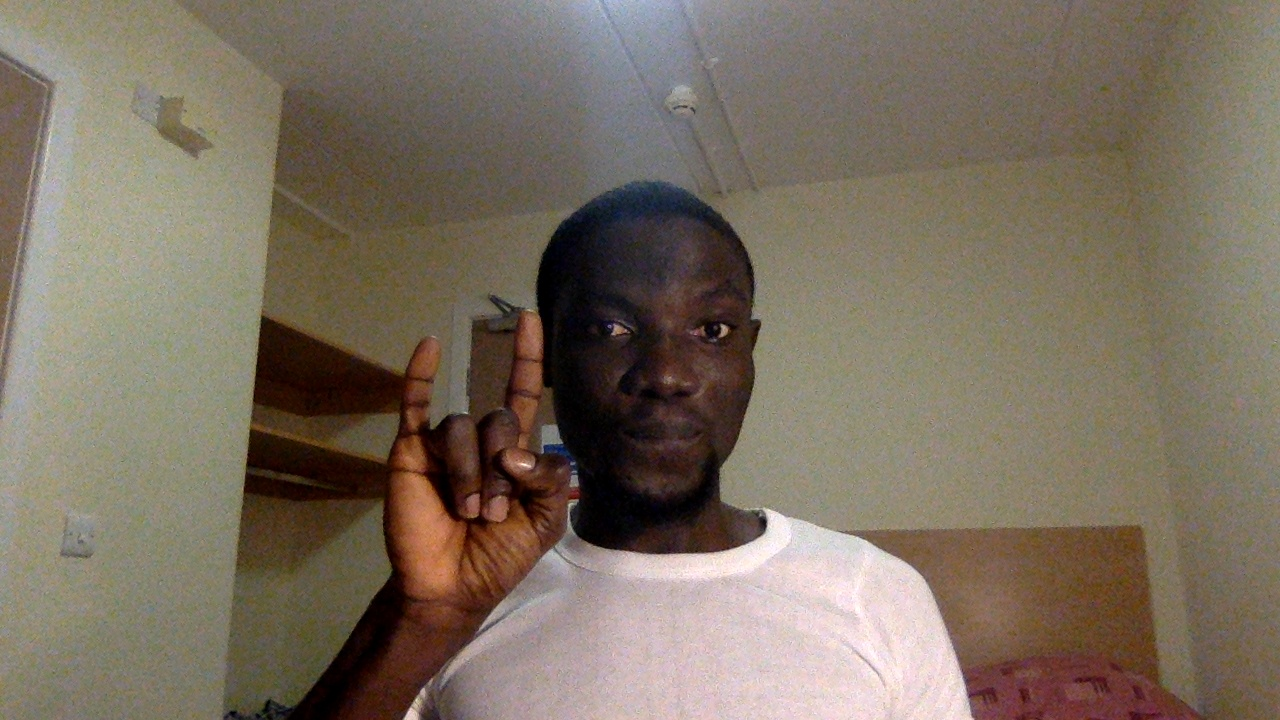I Love You: (375, 307, 582, 627)
